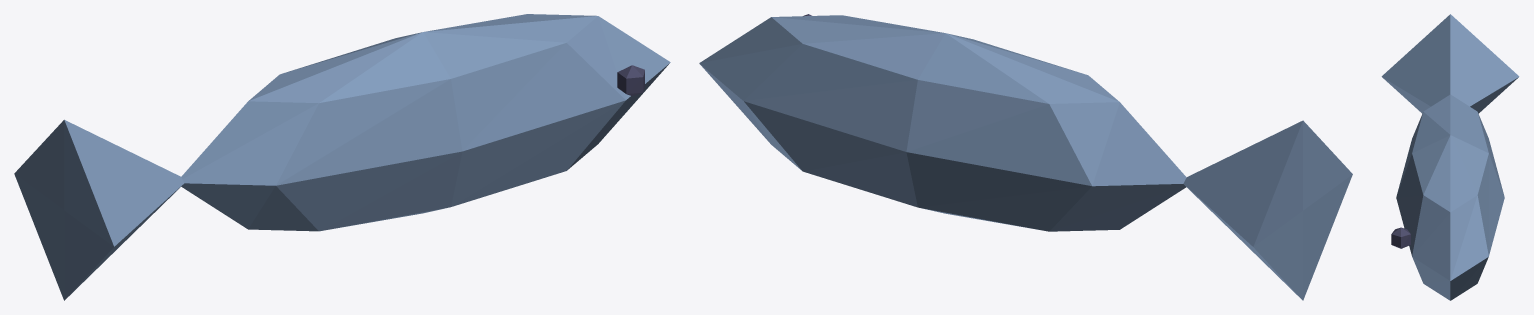
The model's file is fish.glb.
3 renders of one model, left to right at view 1: azimuth 30°, elevation 25°; view 2: azimuth 150°, elevation 25°; view 3: azimuth 270°, elevation 25°, orthographic. The views are drawn at different scales.
Visible parts, largest first — view 1: fish; view 2: fish; view 3: fish.
Part boxes in pixels (x1,y1,x2,y2): fish: (14, 14, 670, 300); fish: (699, 14, 1352, 300); fish: (1381, 14, 1519, 300).
Bounding box in the file's own units: 0.49 × 0.14 × 0.14.
